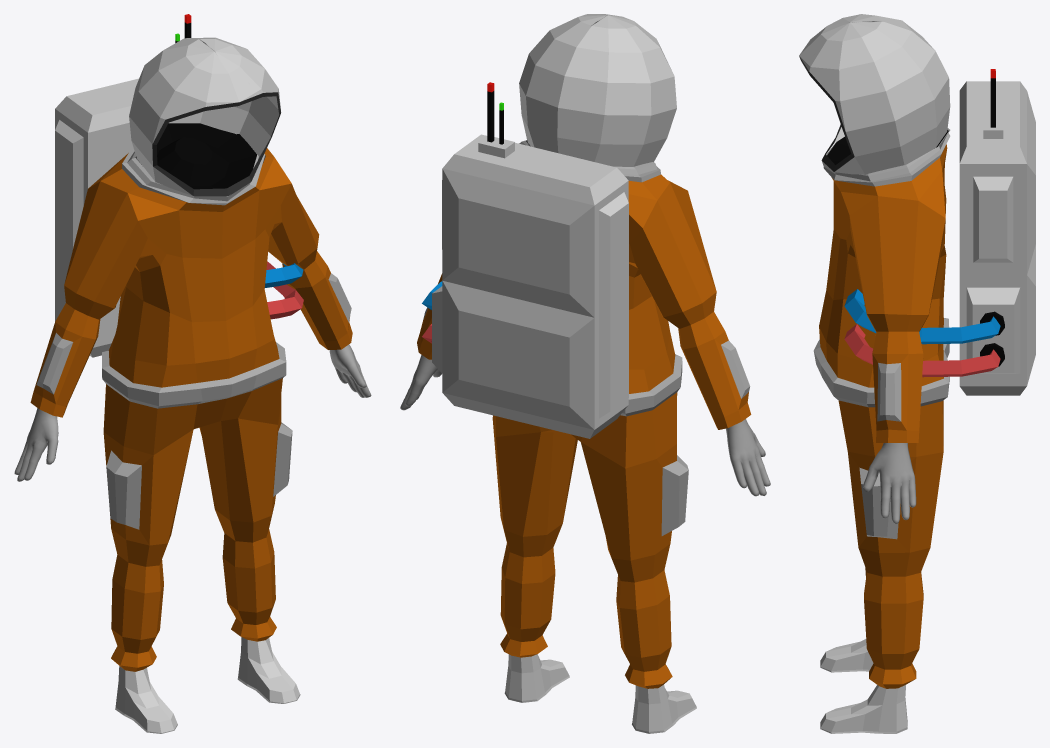
The model's file is CD-ARIOSF2.glb.
The picture shows the model from 3 angles, left to right: view 1: azimuth 30°, elevation 25°; view 2: azimuth 150°, elevation 25°; view 3: azimuth 270°, elevation 25°; orthographic projection. The views are drawn at different scales.
Visible parts, largest first — view 1: Flight Suit; view 2: Flight Suit; view 3: Flight Suit.
Part boxes in pixels (<box>): Flight Suit: <box>14,14,371,733</box>; Flight Suit: <box>400,14,770,733</box>; Flight Suit: <box>799,14,1035,733</box>.
Bounding box in the file's own units: 0.9827 × 1.76 × 0.561.
Materials: 3 (3 with a texture image).
